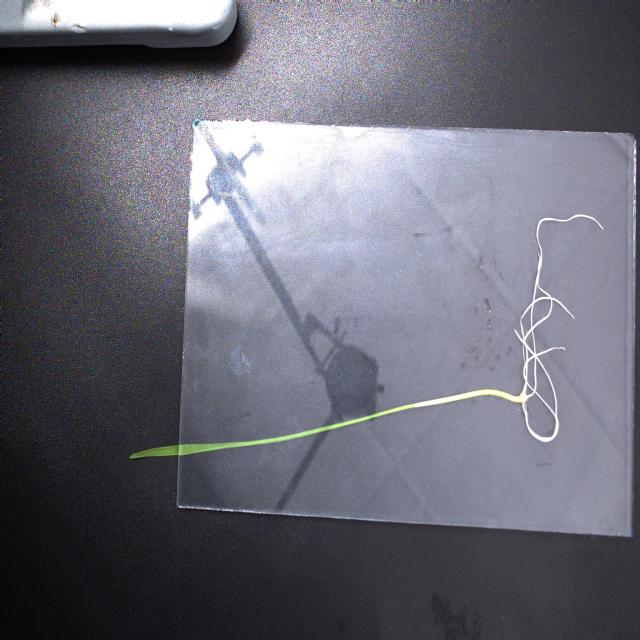leaf: (128, 430, 294, 461)
root: (511, 211, 609, 447)
stem: (300, 387, 516, 443)
